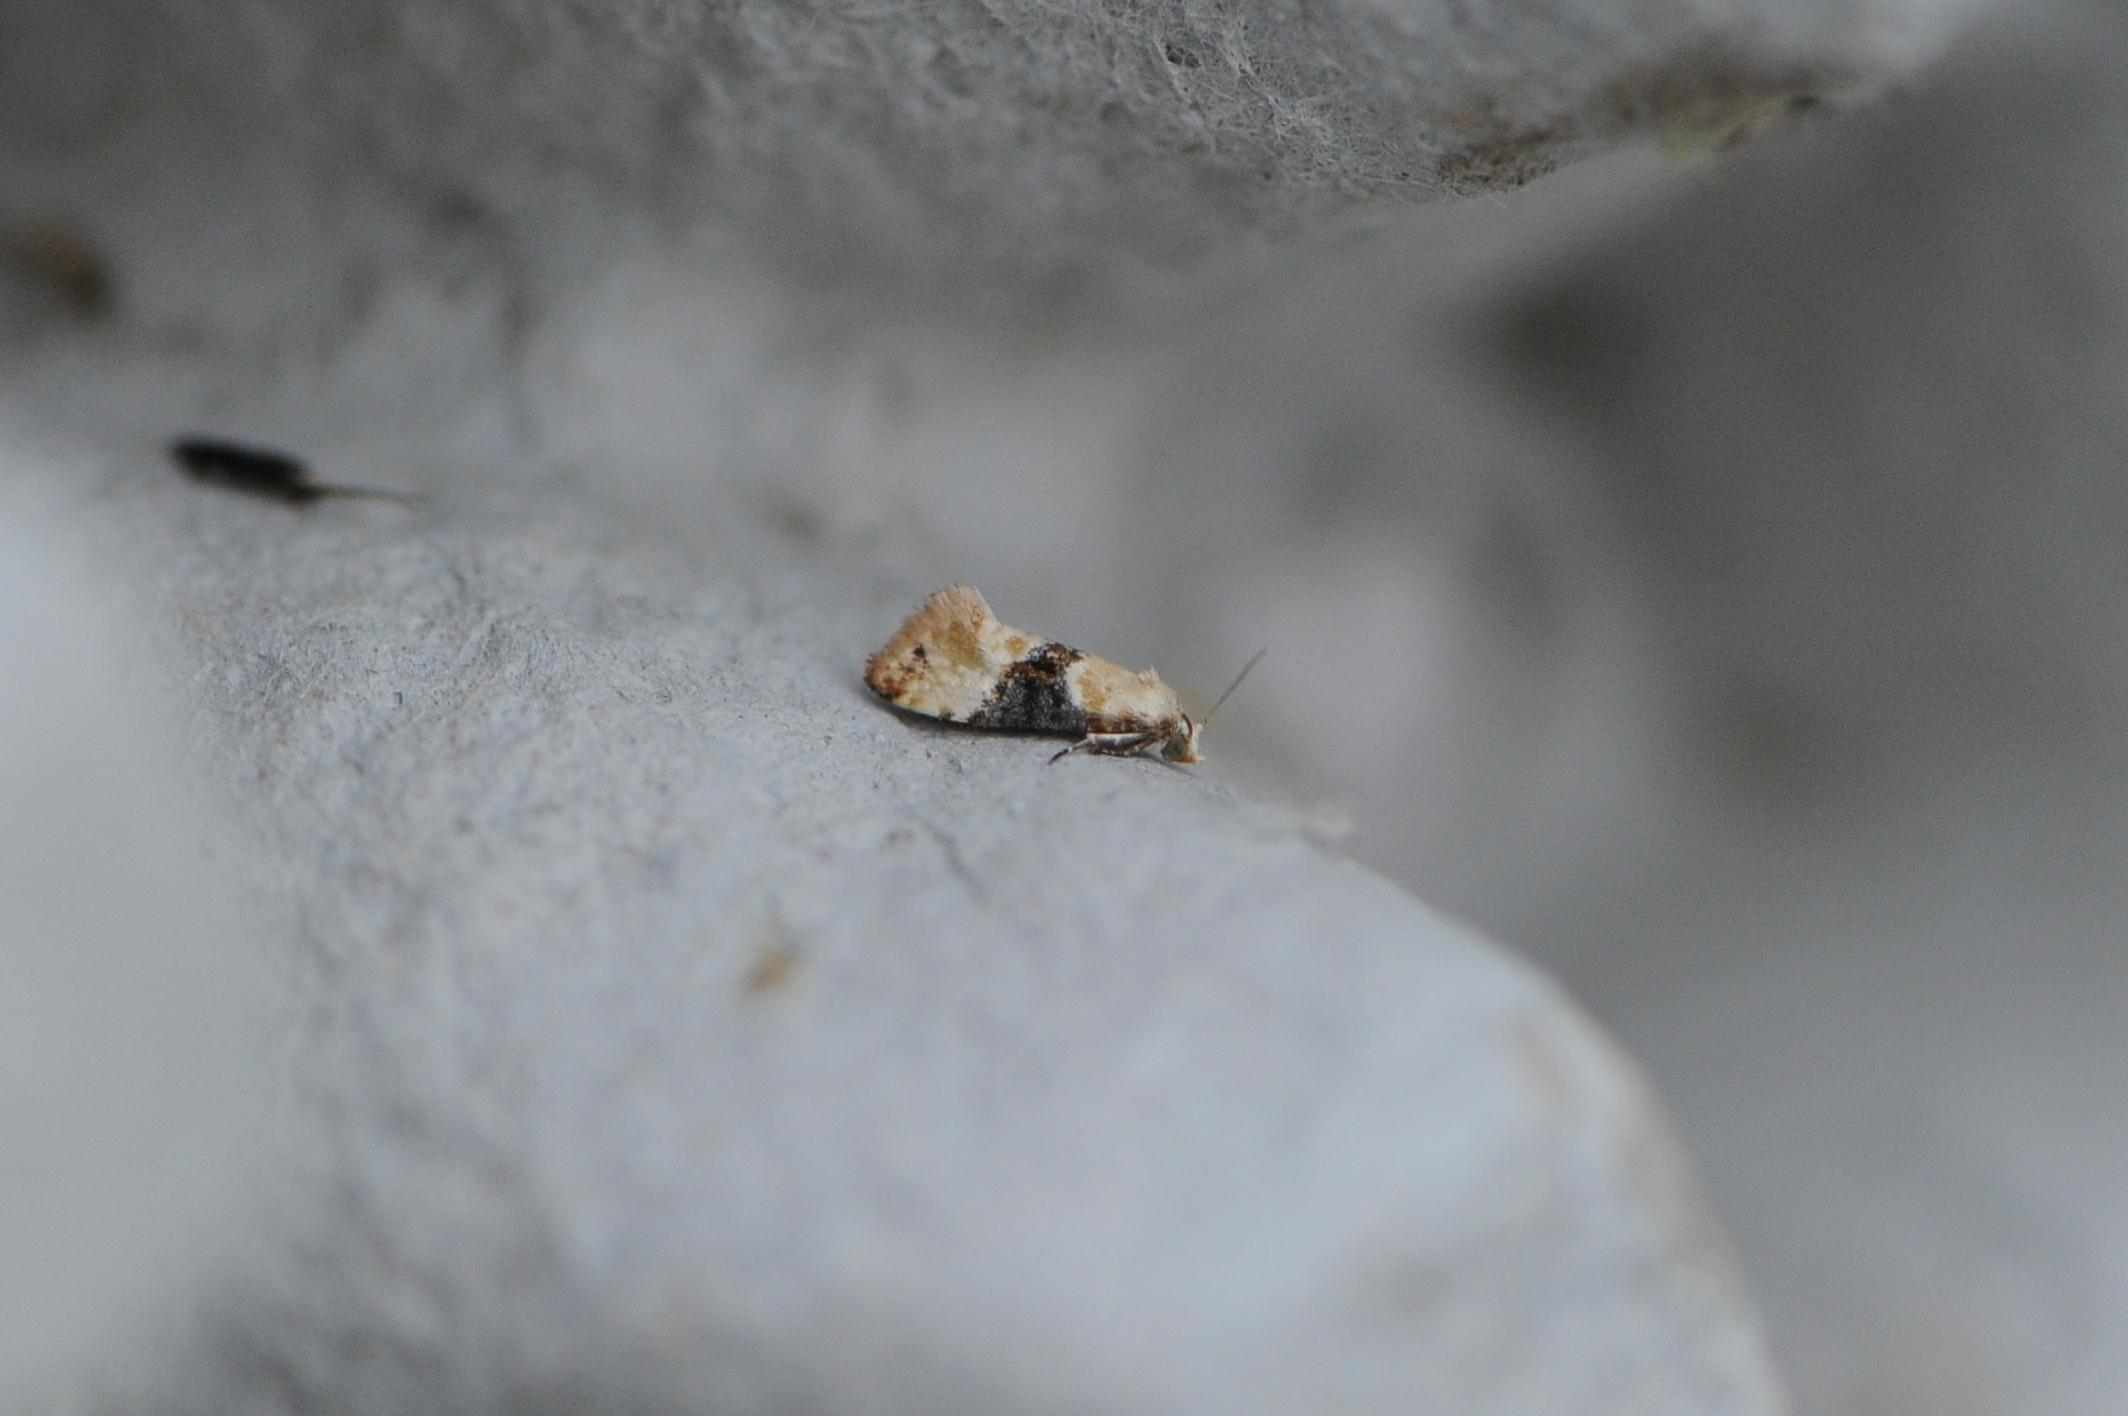Eupoecilia Ambiguella: (856, 575, 1269, 782)
